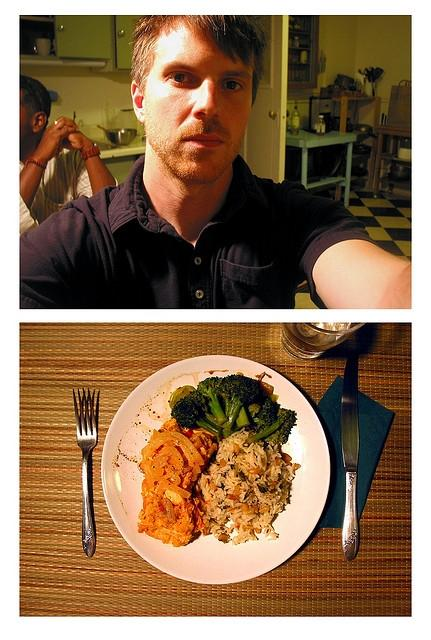broccoli: (214, 374, 260, 432), (170, 397, 222, 438), (246, 408, 295, 443), (221, 402, 263, 438), (197, 377, 228, 425), (249, 399, 272, 432), (235, 405, 250, 428)
